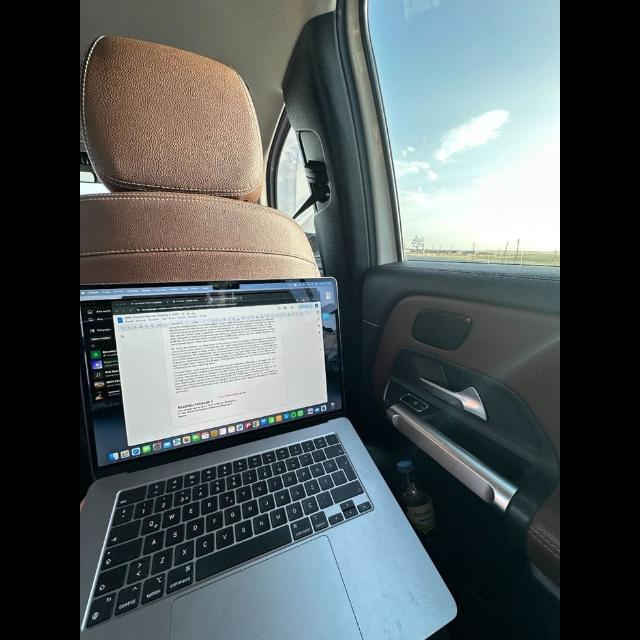laptop: (80, 267, 456, 639)
